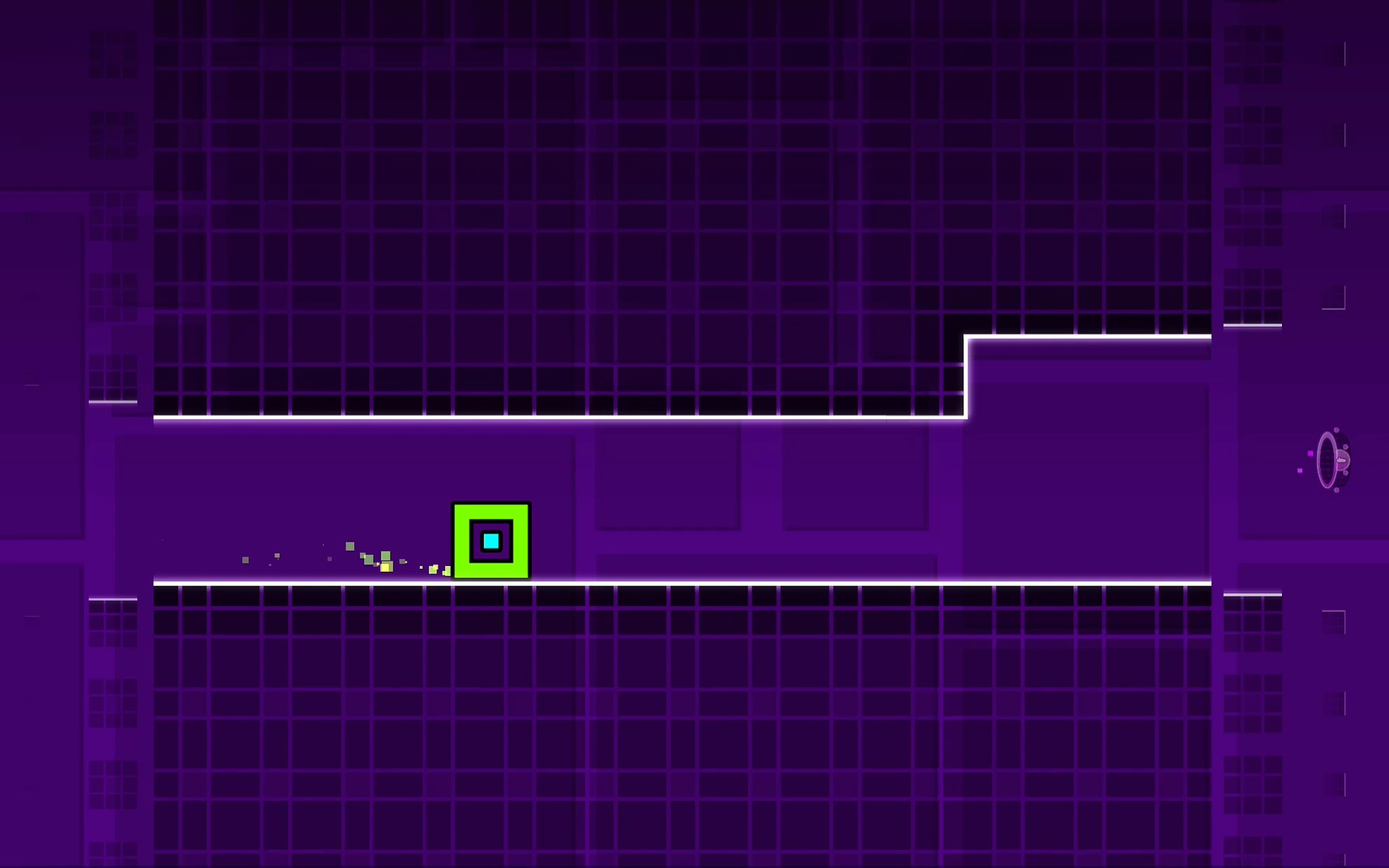Block2: (162, 5, 968, 416), (150, 573, 1288, 850), (963, 5, 1297, 336)
Player: (450, 503, 532, 578)
